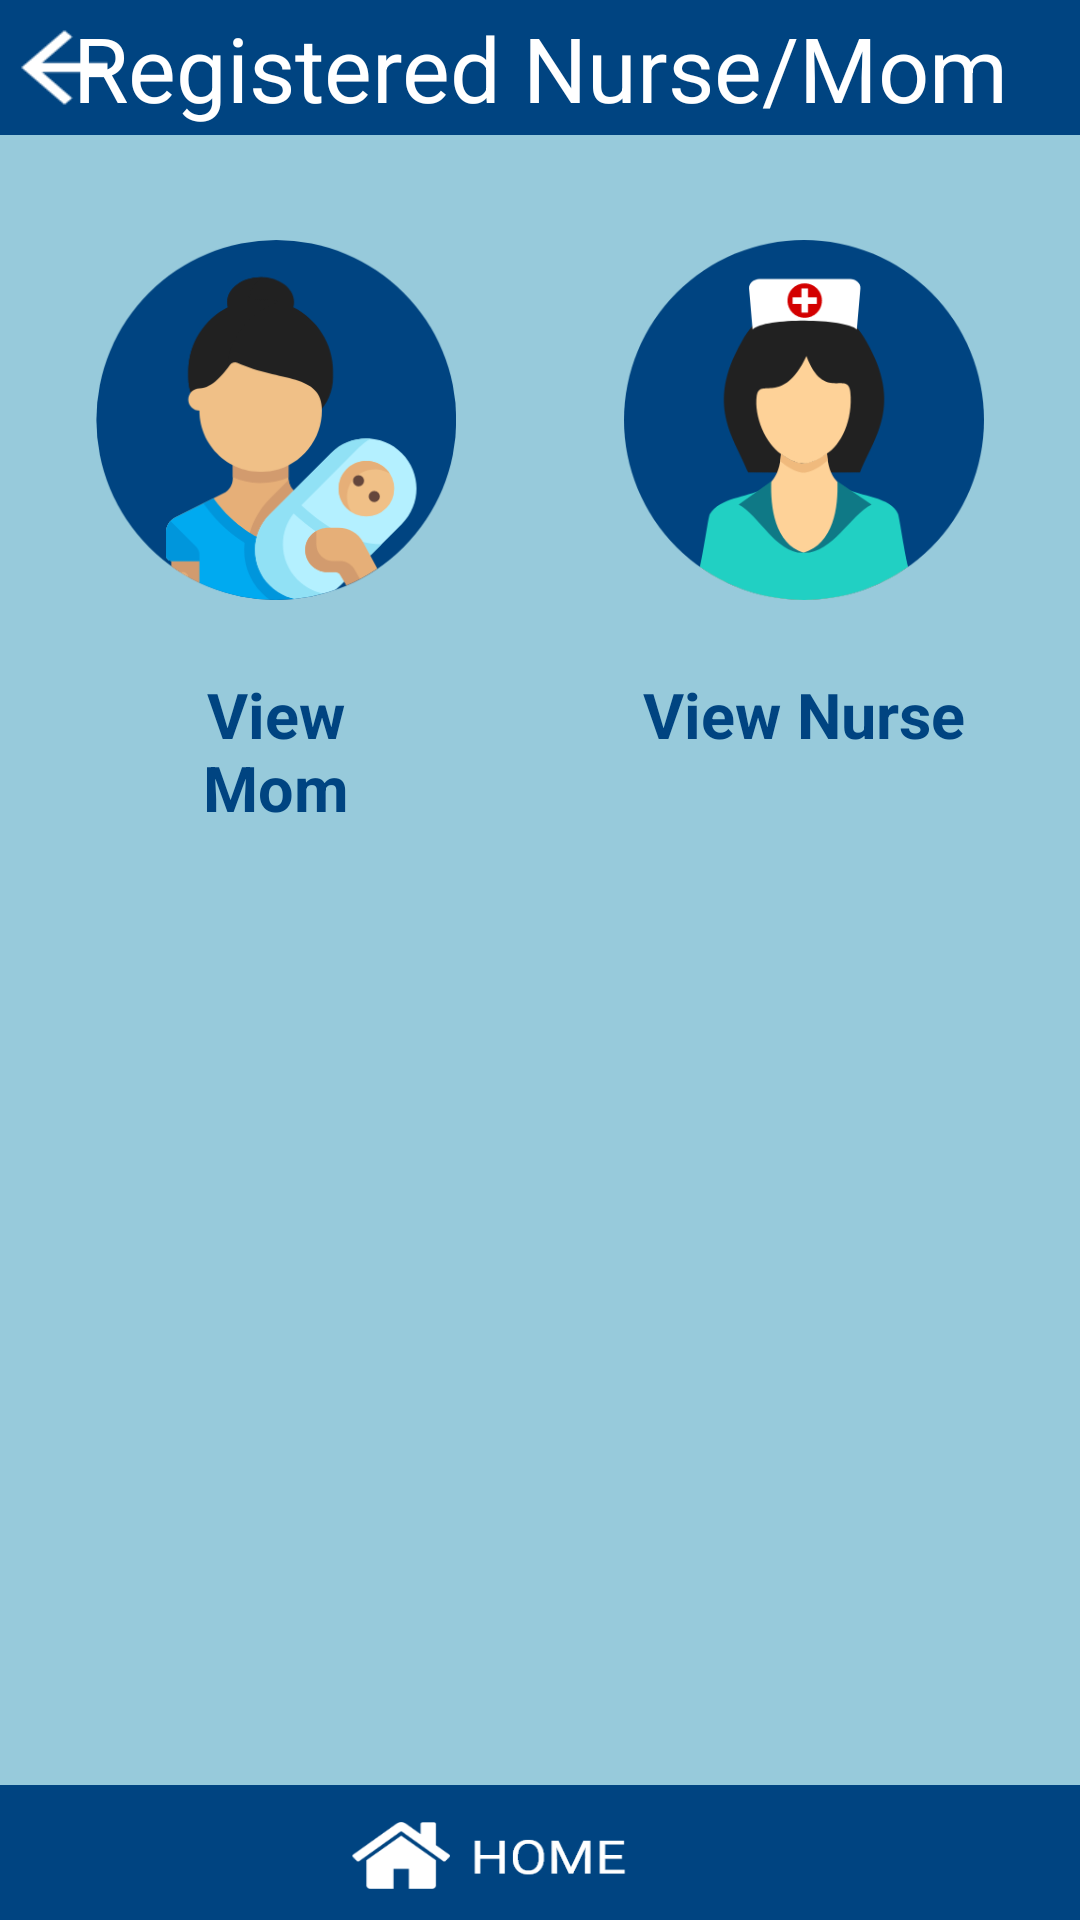

Icon click points for this 1080px×1920px phone screenshot, format [x,y]:
mother: [276,420]
